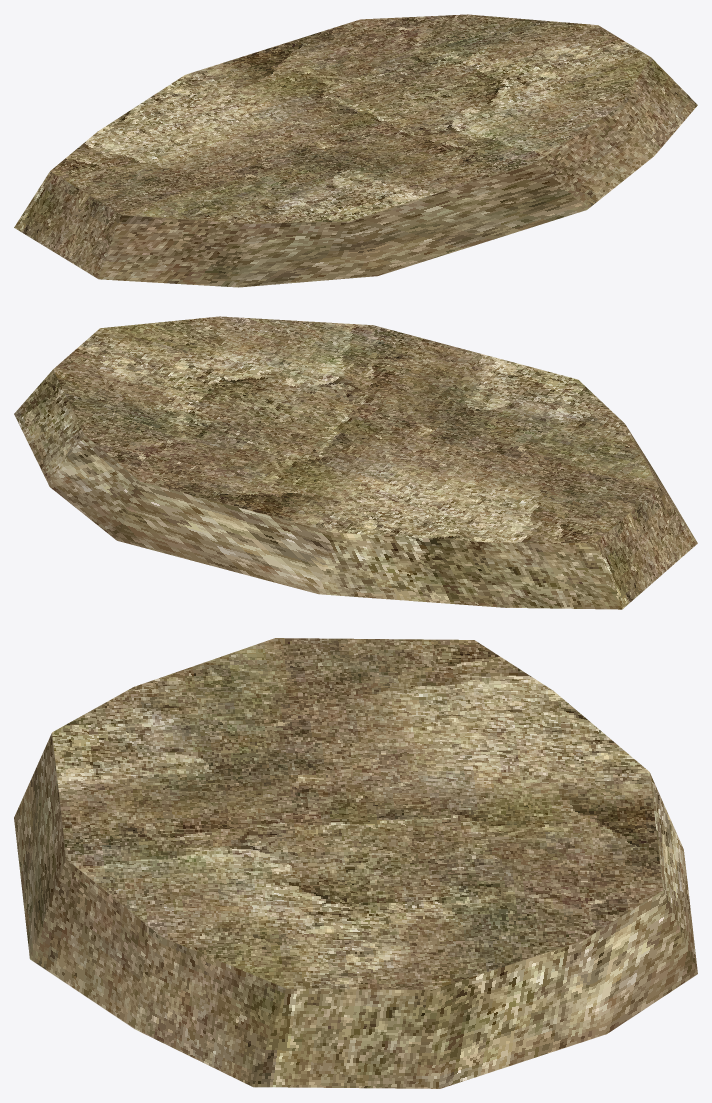
File: stage-east-p7-132.glb
3 renders of one model, top to bottom at view 1: azimuth 30°, elevation 25°; view 2: azimuth 150°, elevation 25°; view 3: azimuth 270°, elevation 25°, orthographic. The views are drawn at different scales.
Size of the model in its own units: 10.55 by 1.36 by 6.92.
1 material, 1 textured.
